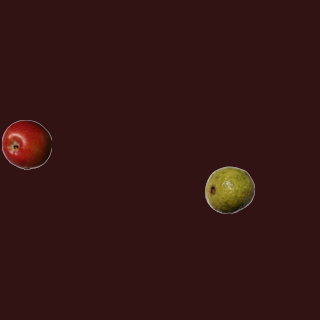Apple Braeburn: (1, 119, 51, 169)
Guava: (204, 164, 254, 214)
